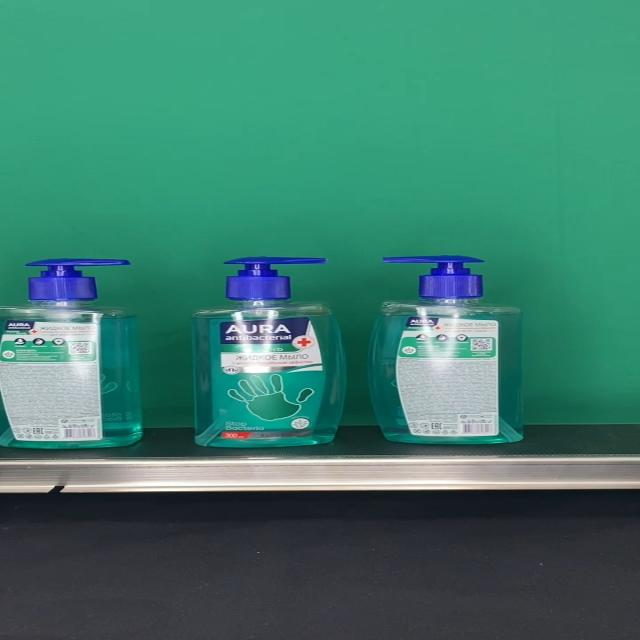Bottle: (189, 257, 347, 448), (368, 256, 523, 444), (0, 259, 143, 449)
Cap: (380, 256, 485, 299), (223, 257, 326, 300), (26, 260, 130, 302)
